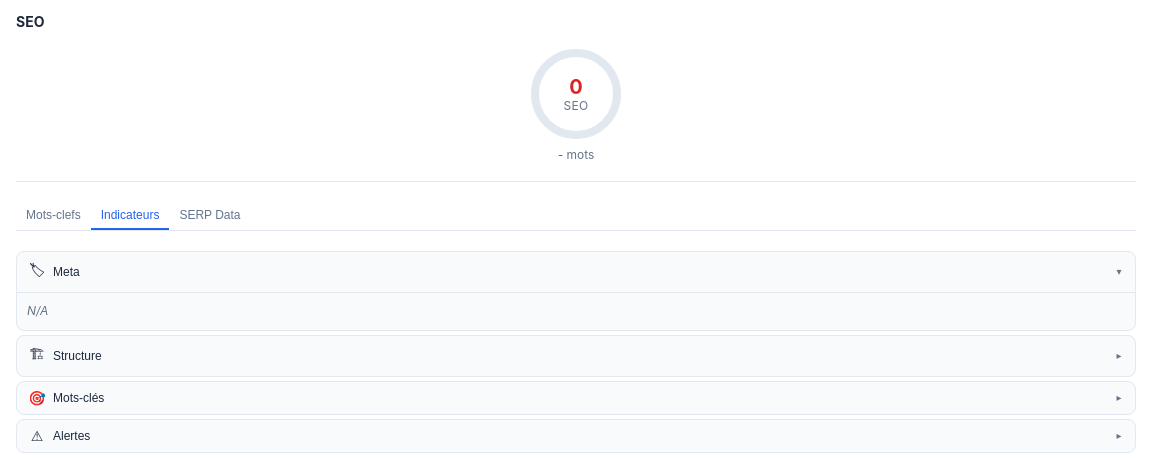
Test: SeoPanel › empty state: navigates between all tabs without crash
The image size is (1152, 470).
What coordinates should you click on to do the following:
click the tab with class "seo-tab" showing "Mots-clefs"
I would click on:
 (53, 216)
Its box is [16,202,91,230].
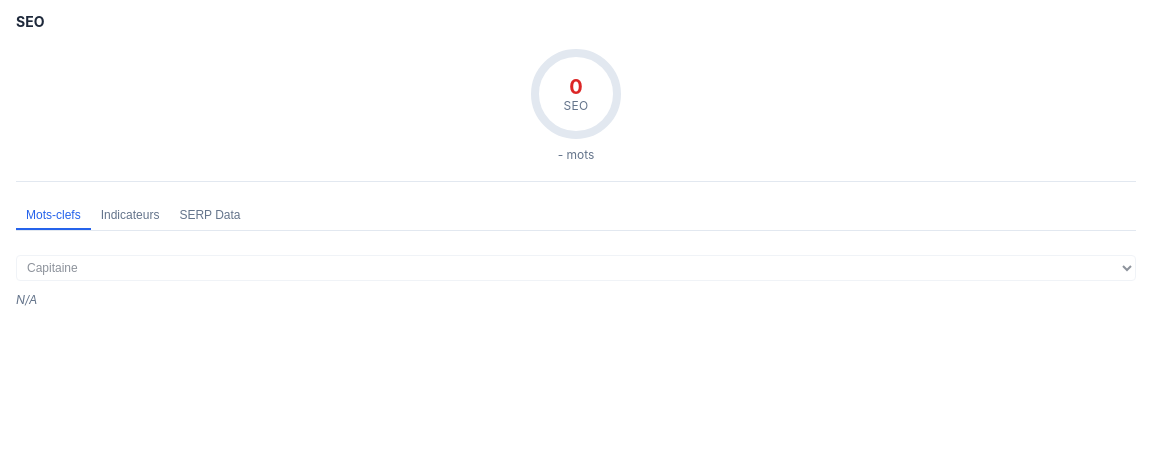
Now the tab with class "seo-tab" has class "active", box [16,202,91,230]
What coordinates should you click on to do the following:
click the tab with class "seo-tab" showing "Indicateurs"
I would click on:
 (130, 216)
Its box is [91,202,169,230].
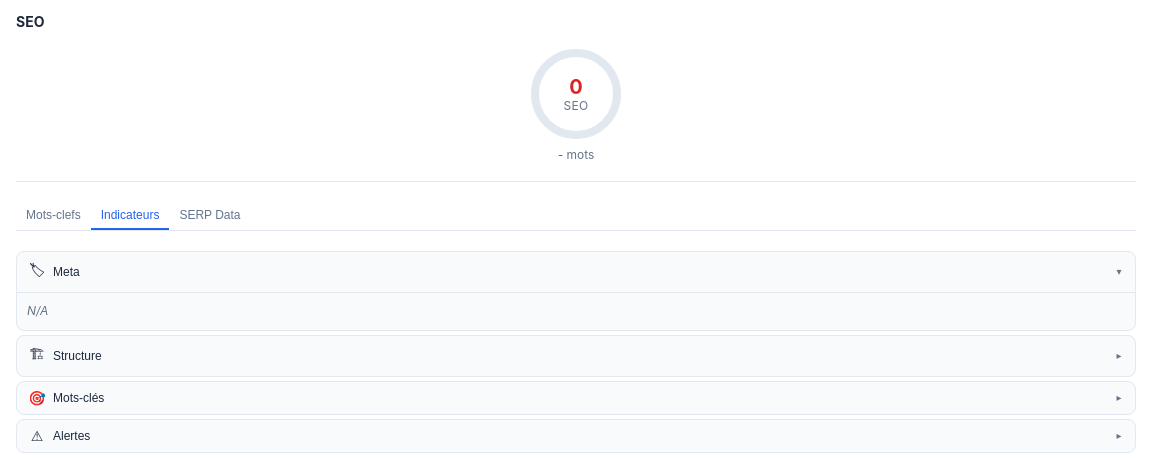
Now the tab with class "seo-tab" has class "active", box [91,202,169,230]
What coordinates should you click on to do the following:
click the tab with class "seo-tab" showing "SERP Data"
I would click on:
 (210, 216)
Its box is [169,202,251,230].
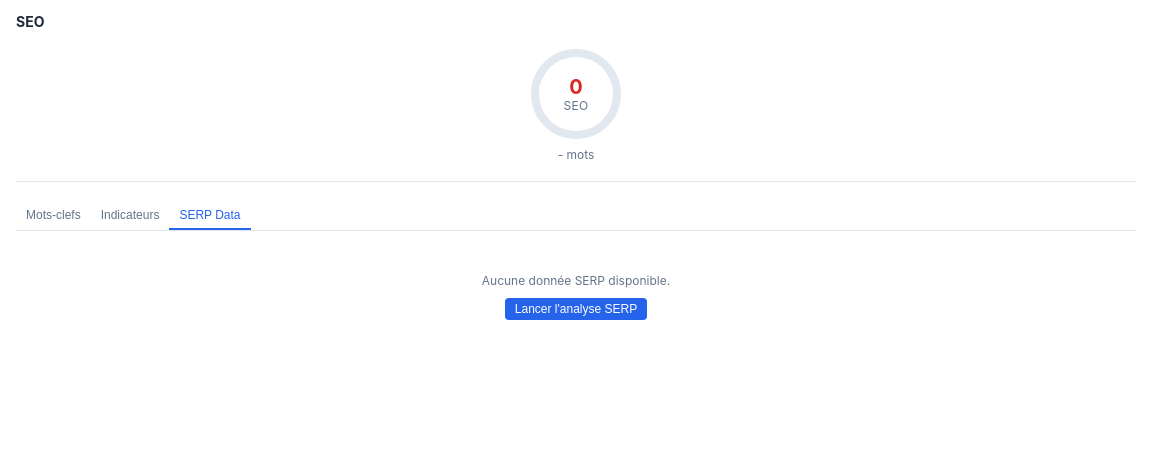
Now the panel with id "seo-tabpanel-serp-data" is shown, box [482,273,670,320]
